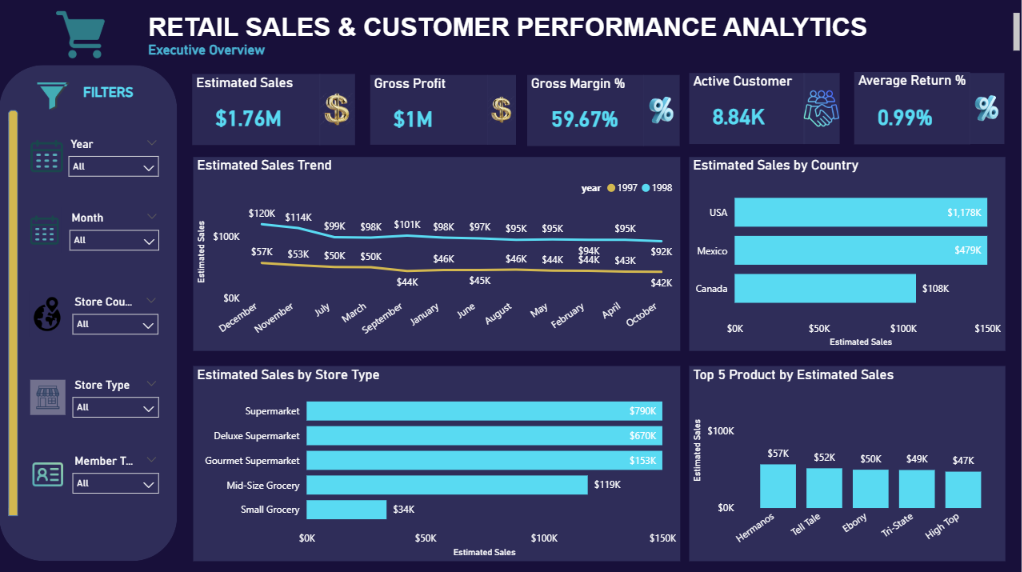

The page's visual inventory and layout, read from the dashboard file:
{"tool":"powerbi","page":{"name":"Executive Overview","canvas":[1280,720],"ordinal":0},"visuals":[{"type":"textbox","title":"Re","box":[181.1,11,1099.1,68.6],"z":0},{"type":"cardVisual","title":"Average Return %","fields":{"Data":["Measure_Table.Aggregate Return Rate %"]},"box":[1068.9,90.2,144.7,90.2],"z":0,"group":"g6"},{"type":"cardVisual","title":"Active Customer","fields":{"Data":["Measure_Table.Active Customers"]},"box":[863,91.9,144.7,88.5],"z":0,"group":"g4"},{"type":"cardVisual","title":"Estimated Sales","fields":{"Data":["Measure_Table.Estimated Sales"]},"box":[241.7,93.1,160,88.5],"z":0,"group":"g8"},{"type":"group","id":"g1","title":"Group 2","box":[660.4,93.7,190.6,89.2],"z":0,"group":"g12"},{"type":"cardVisual","title":"Gross Margin %","fields":{"Data":["Measure_Table.Estimated Gross Margin %"]},"box":[660.4,93.7,145.5,89.2],"z":0,"group":"g1"},{"type":"cardVisual","title":"Gross Profit","fields":{"Data":["Measure_Table.Estimated Gross Profit"]},"box":[464.7,94,146.8,87.4],"z":0,"group":"g2"},{"type":"shape","box":[11,137.3,12.3,507.7],"z":0,"group":"g11"},{"type":"slicer","fields":{"Values":["dim_date.year"]},"box":[75.6,166.8,133.4,57.9],"z":0,"group":"g3"},{"type":"slicer","fields":{"Values":["dim_date.month_name"]},"box":[76.8,259.5,132.5,57.9],"z":0,"group":"g9"},{"type":"slicer","fields":{"Values":["dim_store.store_country"]},"box":[81.1,363.5,127.7,57.9],"z":0,"group":"g7"},{"type":"slicer","fields":{"Values":["dim_store.store_type"]},"box":[81,467.7,128,57.4],"z":0,"group":"g5"},{"type":"slicer","fields":{"Values":["dim_customer.member_card"]},"box":[81,563.2,128,57.4],"z":0,"group":"g10"},{"type":"shape","box":[0,81.2,222.4,620],"z":1000},{"type":"image","box":[1006,91.9,46,88.5],"z":1000,"group":"g4"},{"type":"image","box":[1212.5,91.9,44.3,88.5],"z":1000,"group":"g6"},{"type":"image","box":[400.3,93.1,44.5,89],"z":1000,"group":"g8"},{"type":"group","id":"g2","title":"Group 3","box":[464.7,93.6,182.1,88.5],"z":1000,"group":"g12"},{"type":"image","box":[610.4,93.6,36.2,87.4],"z":1000,"group":"g2"},{"type":"image","box":[805.1,93.7,46,88.5],"z":1000,"group":"g1"},{"type":"group","id":"g3","title":"Group 1","box":[35.7,166.8,173.9,57],"z":1000,"group":"g11"},{"type":"image","box":[35.7,166.9,46.6,57.6],"z":1000,"group":"g3"},{"type":"image","box":[35.7,259.5,41.1,57.9],"z":1000,"group":"g9"},{"type":"image","box":[37.1,363.9,45,57.9],"z":1000,"group":"g7"},{"type":"image","box":[38.5,467.6,44.3,57.9],"z":1000,"group":"g5"},{"type":"image","box":[38.5,563.1,44.3,57.9],"z":1000,"group":"g10"},{"type":"image","box":[46.7,11,111.1,61.7],"z":2000},{"type":"group","id":"g4","title":"Group 4","box":[863,91.9,188.9,88.5],"z":2000,"group":"g12"},{"type":"group","id":"g5","title":"Group 1","box":[38.5,467.6,169.6,58.4],"z":2000,"group":"g11"},{"type":"group","id":"g6","title":"Group 5","box":[1068.9,90.2,187.2,90.2],"z":3000,"group":"g12"},{"type":"lineChart","title":"Estimated Sales Trend","fields":{"Category":["dim_date.month_name"],"Y":["Measure_Table.Estimated Sales"],"Series":["dim_date.year"]},"box":[242.3,196.7,608.6,242.3],"z":3000},{"type":"group","id":"g7","title":"Group 1","box":[37.1,363.5,172.5,57],"z":3000,"group":"g11"},{"type":"group","id":"g8","title":"Group 6","box":[241.7,93.1,203.1,89],"z":4000,"group":"g12"},{"type":"barChart","title":"Estimated Sales by Country","fields":{"Y":["Measure_Table.Estimated Sales"],"Category":["dim_store.store_country"]},"box":[862.4,196.7,394.8,242.3],"z":4000},{"type":"group","id":"g9","title":"Group 1","box":[35.7,259.5,173.9,58.4],"z":4000,"group":"g11"},{"type":"barChart","title":"Estimated Sales by Store Type","fields":{"Y":["Measure_Table.Estimated Sales"],"Category":["dim_store.store_type"]},"box":[242.3,457.6,608.6,243.7],"z":5000},{"type":"group","id":"g10","title":"Group 1","box":[38.5,563.1,169.6,57],"z":5000,"group":"g11"},{"type":"textbox","box":[99.8,99.8,95.5,35.6],"z":6000,"group":"g11"},{"type":"columnChart","title":"Top 5 Product by Estimated Sales ","fields":{"Y":["Measure_Table.Estimated Sales"],"Category":["dim_product.product_brand"]},"box":[862.4,457.6,394.8,243.7],"z":6000},{"type":"group","id":"g11","title":"Group 7","box":[11,92.7,198.6,552.3],"z":7000},{"type":"image","box":[47.1,92.7,39.9,55.6],"z":7000,"group":"g11"},{"type":"group","id":"g12","title":"Group 8","box":[241.7,90.2,1014.5,92.7],"z":8000}]}

Visuals, with their boxes in screenshot pixels (x1, y1, x2, y2), scaled from the page's 1280x720 canvas onto the 1022x572 screenshot:
"Re" textbox: BBox(145, 9, 1021, 63)
"Average Return %" cardVisual: BBox(853, 72, 969, 143)
"Active Customer" cardVisual: BBox(689, 73, 805, 143)
"Estimated Sales" cardVisual: BBox(193, 74, 321, 144)
"Group 2" group: BBox(527, 74, 679, 145)
"Gross Margin %" cardVisual: BBox(527, 74, 643, 145)
"Gross Profit" cardVisual: BBox(371, 75, 488, 144)
shape: BBox(9, 109, 19, 512)
slicer - dim_date.year: BBox(60, 133, 167, 179)
slicer - dim_date.month_name: BBox(61, 206, 167, 252)
slicer - dim_store.store_country: BBox(65, 289, 167, 335)
slicer - dim_store.store_type: BBox(65, 372, 167, 417)
slicer - dim_customer.member_card: BBox(65, 447, 167, 493)
shape: BBox(0, 65, 178, 557)
image: BBox(803, 73, 840, 143)
image: BBox(968, 73, 1003, 143)
image: BBox(320, 74, 355, 145)
"Group 3" group: BBox(371, 74, 516, 145)
image: BBox(487, 74, 516, 144)
image: BBox(643, 74, 680, 145)
"Group 1" group: BBox(29, 133, 167, 178)
image: BBox(29, 133, 66, 178)
image: BBox(29, 206, 61, 252)
image: BBox(30, 289, 66, 335)
image: BBox(31, 371, 66, 417)
image: BBox(31, 447, 66, 493)
image: BBox(37, 9, 126, 58)
"Group 4" group: BBox(689, 73, 840, 143)
"Group 1" group: BBox(31, 371, 166, 418)
"Group 5" group: BBox(853, 72, 1003, 143)
"Estimated Sales Trend" lineChart: BBox(193, 156, 679, 349)
"Group 1" group: BBox(30, 289, 167, 334)
"Group 6" group: BBox(193, 74, 355, 145)
"Estimated Sales by Country" barChart: BBox(689, 156, 1004, 349)
"Group 1" group: BBox(29, 206, 167, 253)
"Estimated Sales by Store Type" barChart: BBox(193, 364, 679, 557)
"Group 1" group: BBox(31, 447, 166, 493)
textbox: BBox(80, 79, 156, 108)
"Top 5 Product by Estimated Sales " columnChart: BBox(689, 364, 1004, 557)
"Group 7" group: BBox(9, 74, 167, 512)
image: BBox(38, 74, 69, 118)
"Group 8" group: BBox(193, 72, 1003, 145)
